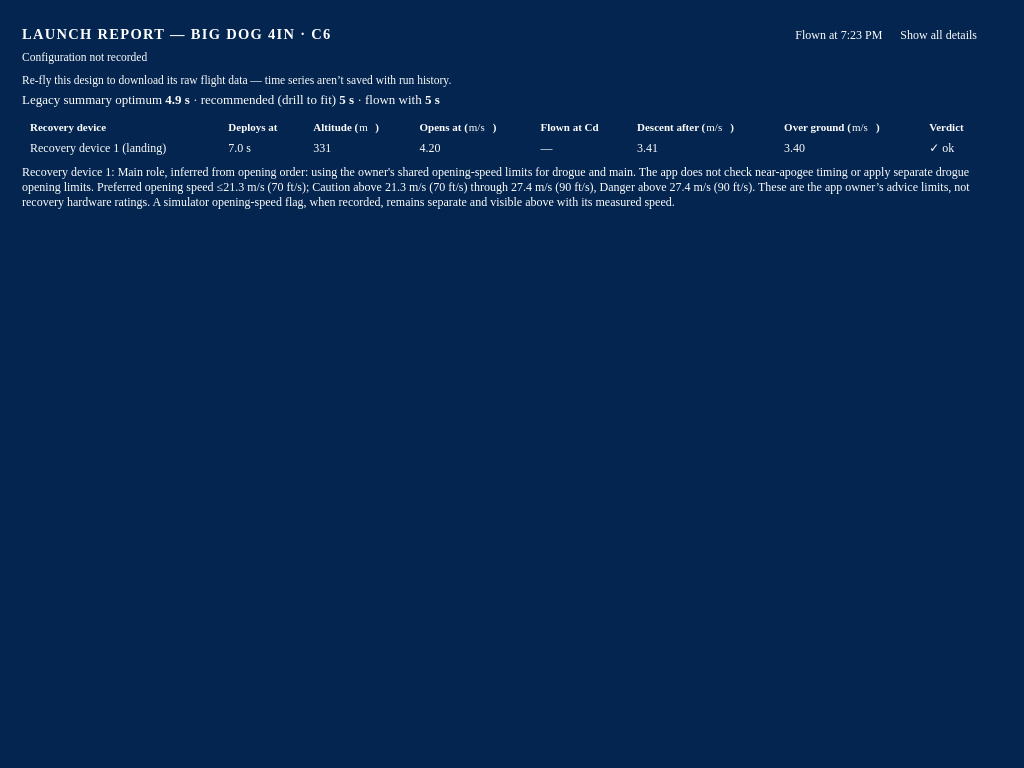
Test: does not coerce corrupt saved detail numbers true
Click the button "Show all details": [939, 36] box [890, 24, 987, 47]
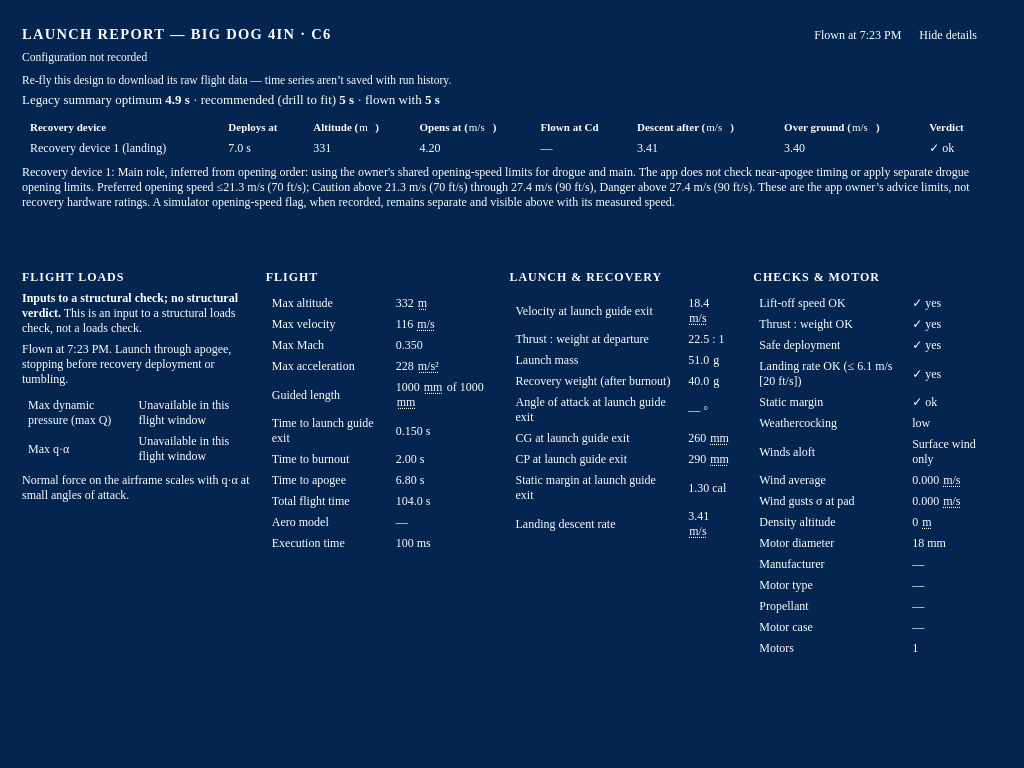
Expected: the cell "— °" is shown, [682, 392, 743, 428]
